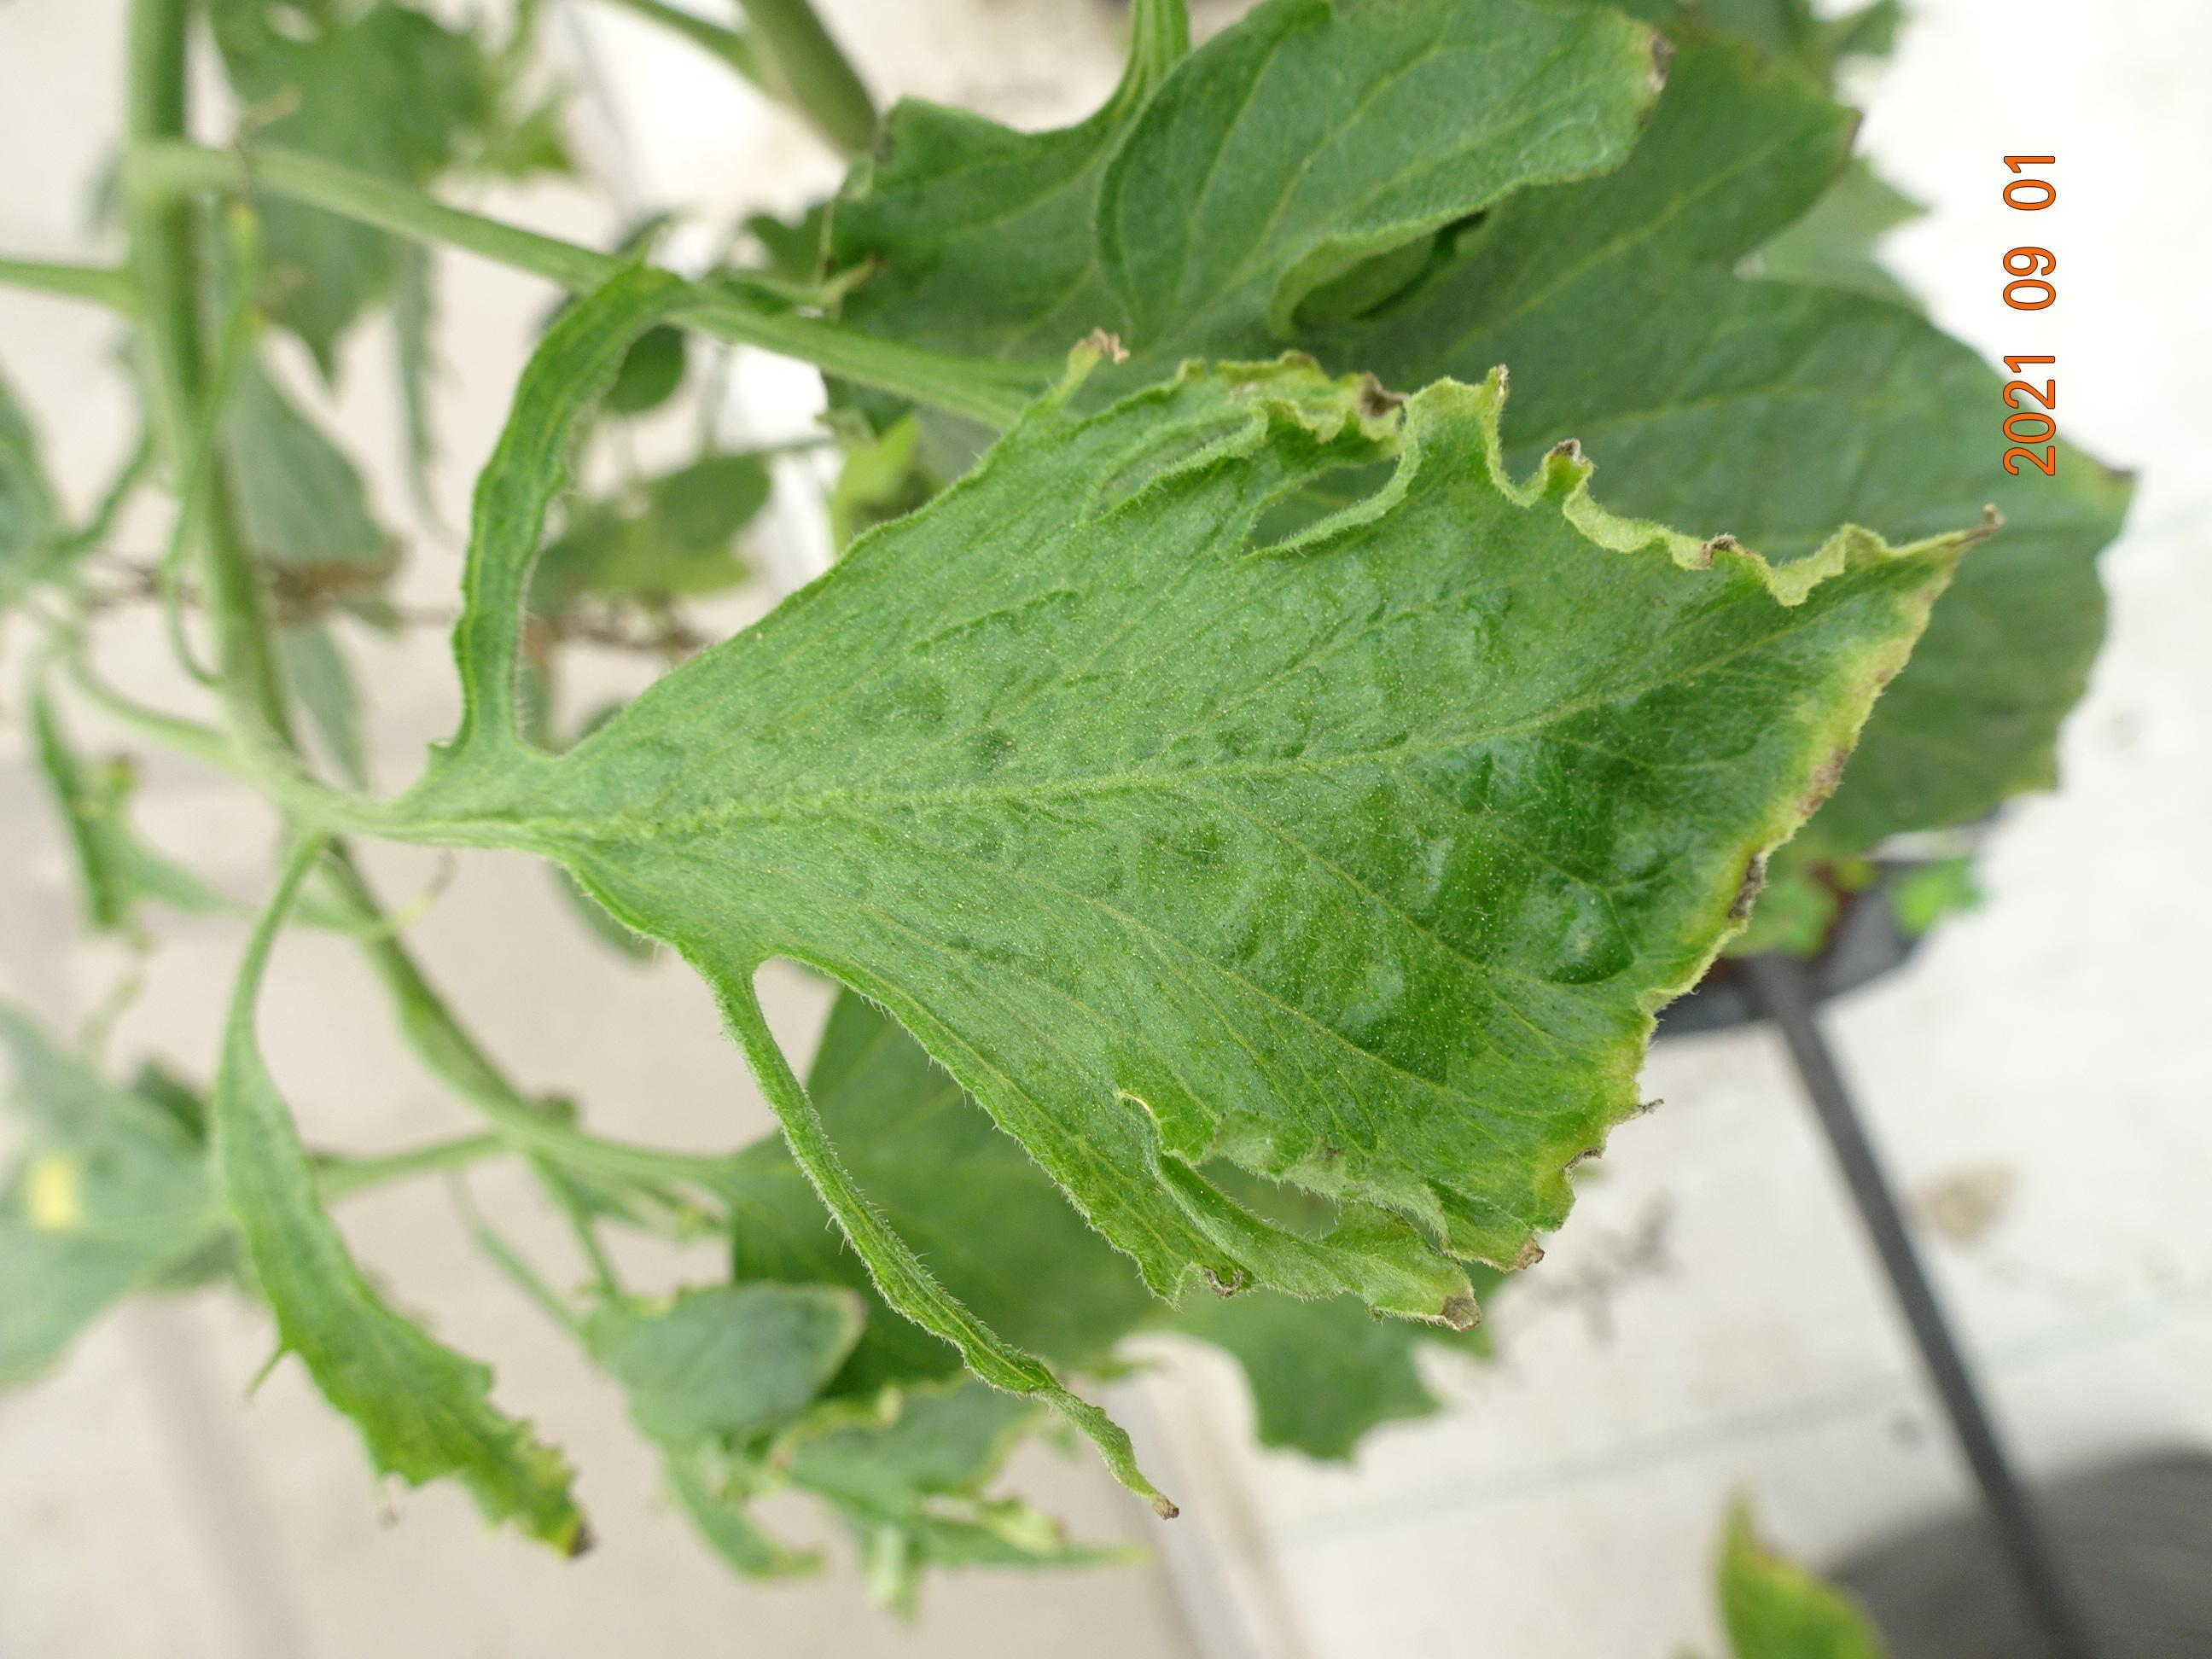Hoja rugoso: (545, 359, 1961, 1323)
